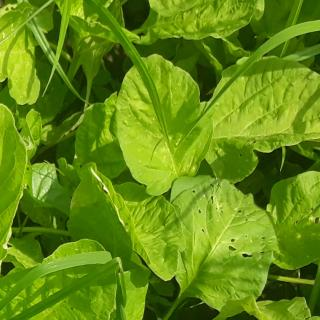karat_putih: (214, 0, 253, 26)
